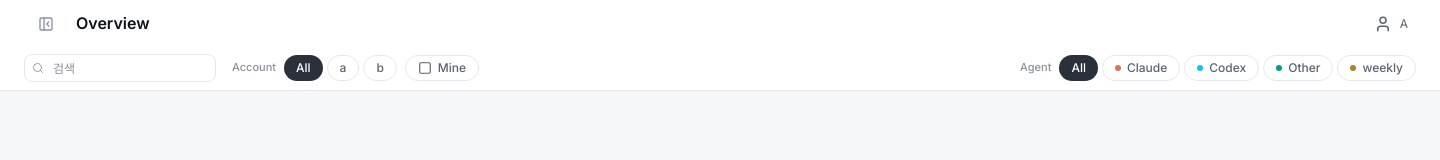
Scenario: Header own-accounts toggle › role=user 가 켜면 본인 계정 칩만 남고, 하나만 남아도 다시 끌 수 있다
Expected: the button "b" is shown, [363, 55, 397, 81]
Expected: the icon with class "lucide-square" is shown, [418, 61, 432, 75]
Step 1. Click the button "Mine" → (442, 68), box [405, 55, 479, 81]
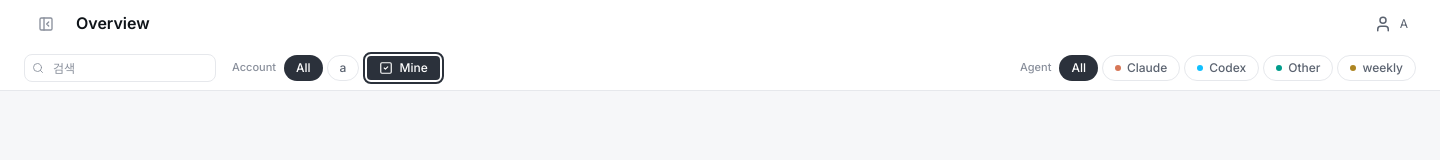
Expected: the button "a" is shown, [327, 55, 359, 81]
Expected: the button "b" is gone
